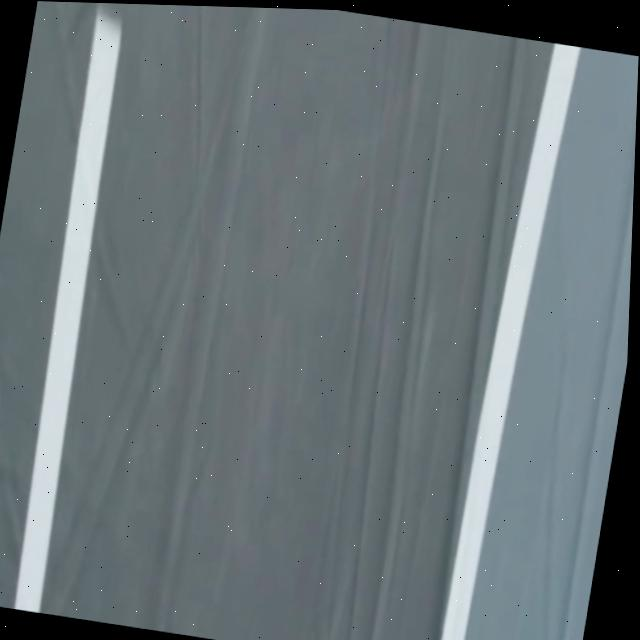center: (14, 7, 121, 613)
left: (442, 43, 581, 640)
